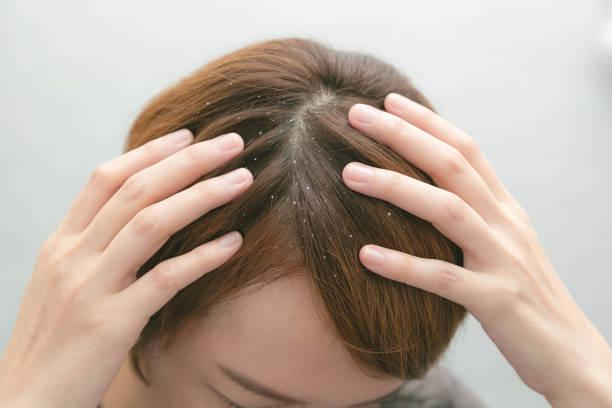dandruff: (246, 125, 272, 142), (285, 191, 300, 214), (316, 247, 329, 268), (341, 226, 358, 242), (196, 96, 214, 110), (252, 93, 269, 105), (383, 205, 394, 223), (286, 159, 304, 168), (309, 132, 322, 144), (263, 189, 274, 199)
